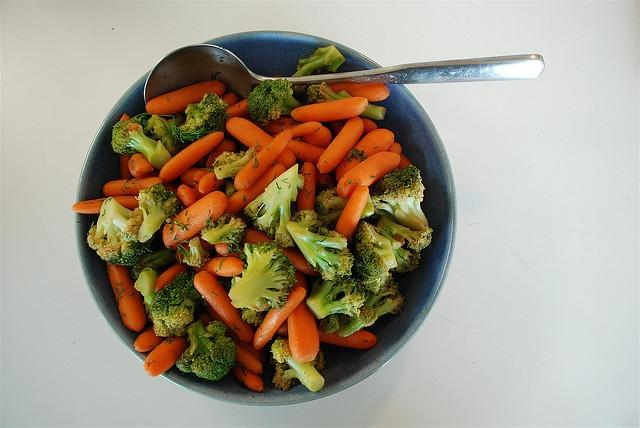broccoli: (243, 163, 304, 248), (228, 241, 298, 312), (87, 197, 154, 266), (286, 221, 354, 282), (148, 270, 209, 337), (370, 164, 428, 232), (176, 320, 238, 380), (110, 116, 172, 171), (290, 44, 344, 106), (354, 221, 398, 294), (270, 336, 326, 392), (307, 82, 386, 120), (306, 274, 369, 320), (135, 183, 182, 243), (245, 78, 302, 126), (177, 93, 230, 135), (375, 216, 433, 252), (144, 114, 186, 154), (212, 146, 259, 180), (202, 213, 248, 245), (337, 306, 378, 338), (372, 290, 406, 318), (125, 130, 158, 158), (182, 236, 210, 268), (134, 268, 158, 296), (240, 308, 264, 324)
carrot: (193, 271, 254, 344), (162, 191, 228, 250), (226, 117, 296, 171), (234, 128, 294, 190), (158, 131, 224, 183), (244, 229, 318, 275), (253, 286, 306, 350), (226, 162, 286, 214), (336, 129, 394, 182), (288, 270, 320, 364), (337, 152, 401, 198), (145, 80, 226, 115), (106, 262, 146, 332), (316, 116, 364, 174), (254, 117, 332, 148), (290, 96, 368, 122), (334, 186, 370, 242), (102, 176, 163, 198), (317, 328, 377, 350), (71, 195, 139, 214), (327, 83, 390, 102), (286, 138, 326, 166), (119, 112, 135, 180), (193, 257, 245, 277), (230, 362, 264, 392), (234, 343, 264, 374), (206, 138, 237, 168), (193, 169, 223, 199), (270, 121, 322, 138), (134, 327, 169, 352), (154, 263, 184, 292), (298, 162, 316, 210), (232, 336, 264, 360), (340, 116, 378, 135), (128, 154, 154, 178), (198, 172, 226, 194), (178, 184, 200, 208), (315, 167, 338, 189), (180, 168, 203, 188), (226, 98, 249, 117), (214, 243, 243, 257), (398, 152, 414, 170), (220, 92, 238, 106), (386, 141, 402, 155), (164, 182, 178, 194), (128, 124, 138, 131), (272, 75, 282, 77)
